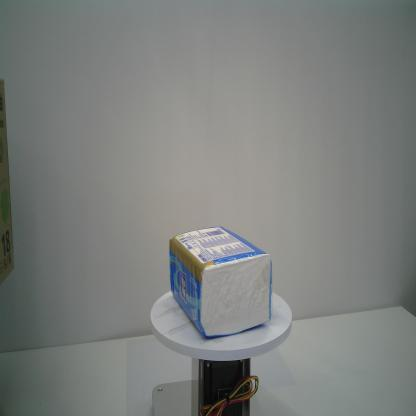Tissue: (166, 224, 274, 342)
